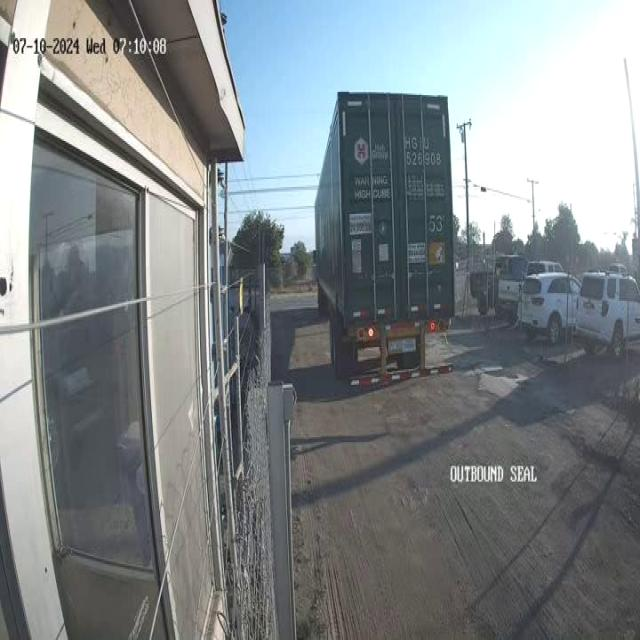TRUCK_CONTAINER: (314, 88, 456, 386)
